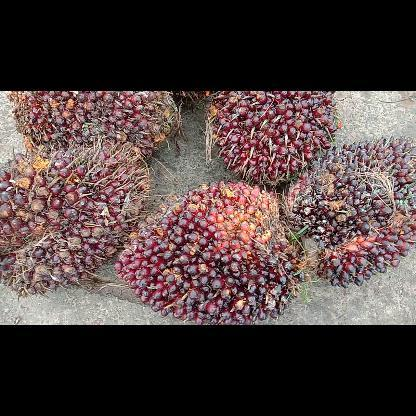Kurang masak: (112, 180, 308, 324), (0, 139, 153, 301), (281, 133, 415, 291), (203, 91, 343, 187), (8, 91, 184, 163)
